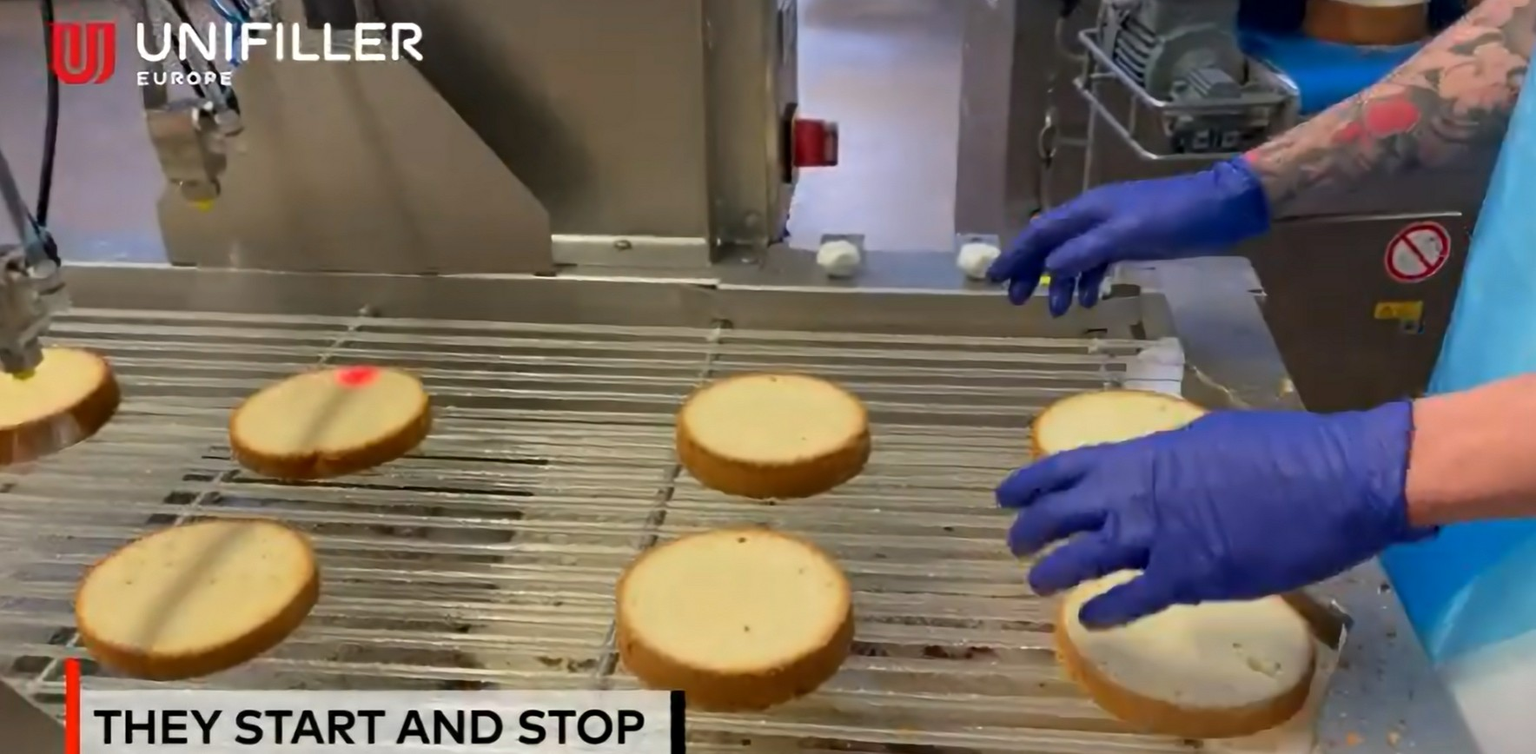Sponge Cake: (1054, 567, 1321, 733), (616, 532, 857, 711), (72, 522, 326, 686), (670, 373, 876, 500), (229, 368, 431, 481), (0, 348, 119, 462), (1029, 388, 1212, 453)
